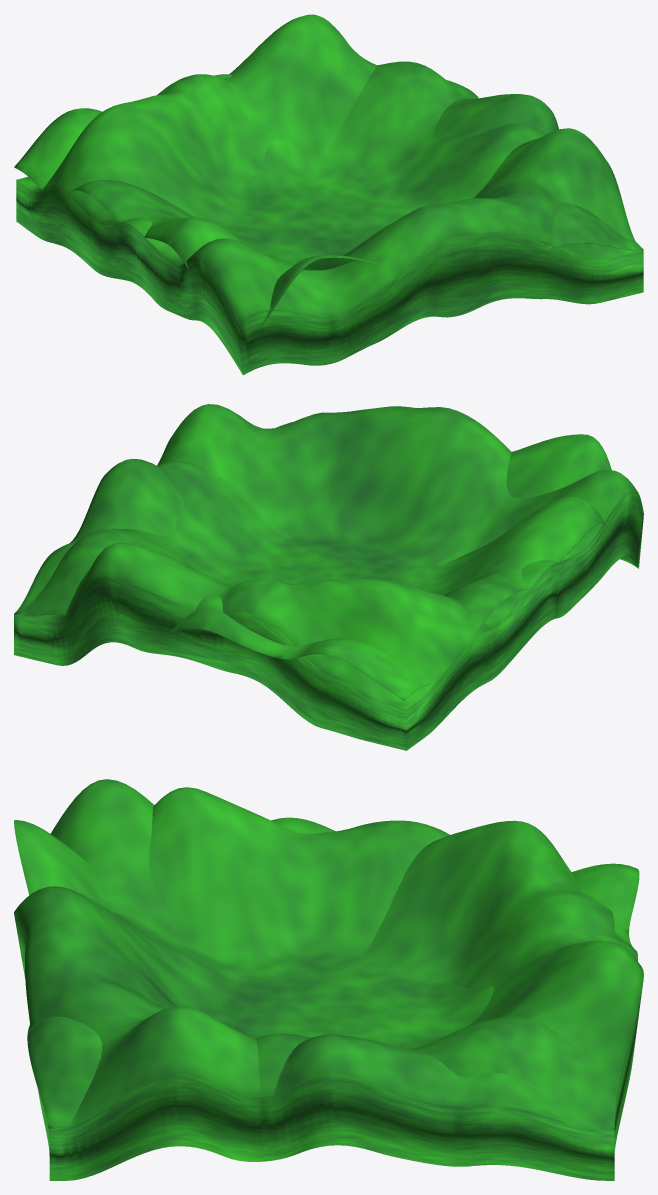
Rendered from Ground.gltf.
3 views of the same model, one above another, from view 1: azimuth 30°, elevation 25°; view 2: azimuth 150°, elevation 25°; view 3: azimuth 270°, elevation 25° (orthographic). The views are drawn at different scales.
Parts seen in each view (by area): view 1: 立方体.001, 立方体; view 2: 立方体.001, 立方体; view 3: 立方体.001, 立方体.
Boxes of the visible parts, box(x1,y1,x2,y2) form: 立方体.001: box(16, 14, 643, 375); 立方体: box(14, 61, 643, 329); 立方体.001: box(14, 404, 643, 750); 立方体: box(14, 422, 611, 700); 立方体.001: box(14, 779, 643, 1180); 立方体: box(14, 787, 639, 1129).
Size of the model in its own units: 220 by 65.02 by 223.
Materials: 1 (1 with a texture image).
